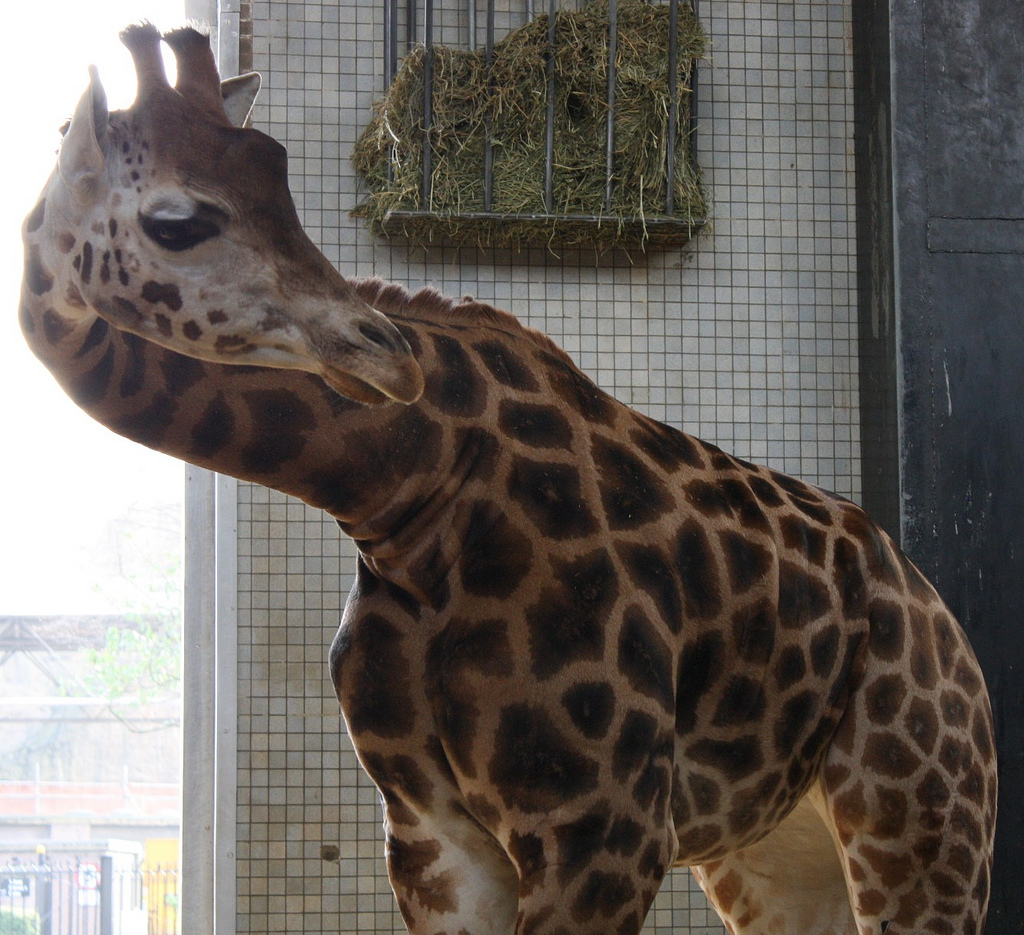giraffe: (50, 52, 959, 894)
